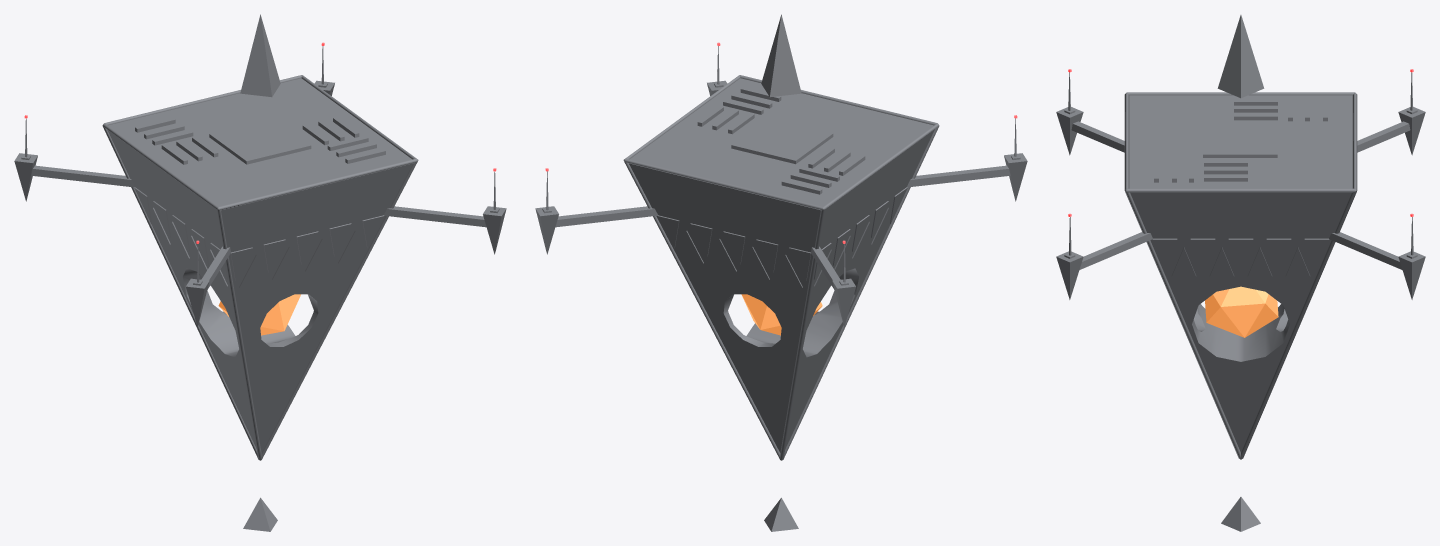
File: station.glb
3 views of the same model, side by side, from view 1: azimuth 30°, elevation 25°; view 2: azimuth 150°, elevation 25°; view 3: azimuth 270°, elevation 25° (orthographic).
Parts seen in each view (by area): view 1: Pyramid_6, Pyramid, Cube, Cylinder, Pyramid_1, Edge_7, Edge_5, Edge_4, Cube_5_3, Cube_7, Platonic_1, Edge_0 (+5 smaller); view 2: Pyramid_6, Pyramid, Cube, Cylinder, Pyramid_1, Edge_6, Edge_4, Edge_5, Cube_6, Cube_4_3, Edge_2, Platonic_1 (+5 smaller); view 3: Pyramid_6, Pyramid, Platonic_1, Cube, Cylinder, Pyramid_1, Edge_6, Edge_7, Edge_3, Cube_4_3, Cube_7, Edge_1 (+9 smaller).
Boxes of the visible parts, x1,y1,x2,y2 form: Pyramid_6: (107,78,412,452); Pyramid: (134,187,384,287); Cube: (209,118,311,164); Cylinder: (183,268,295,357); Pyramid_1: (240,14,280,97); Edge_7: (261,161,417,459); Edge_5: (216,209,261,460); Edge_4: (102,126,259,459); Cube_5_3: (31,165,134,187); Cube_7: (384,206,486,227); Platonic_1: (218,294,300,335); Edge_0: (219,158,417,210); Pyramid_6: (629,78,934,452); Pyramid: (657,187,907,287); Cube: (731,117,833,164); Cylinder: (746,268,858,357); Pyramid_1: (761,14,801,97); Edge_6: (624,161,780,459); Edge_4: (780,209,825,460); Edge_5: (782,126,939,459); Cube_6: (907,165,1010,187); Cube_4_3: (555,206,657,227); Edge_2: (624,158,822,210); Platonic_1: (741,294,822,335); Pyramid_6: (1129,95,1352,451); Pyramid: (1152,238,1329,276); Platonic_1: (1205,286,1278,337); Cube: (1203,123,1277,157); Cylinder: (1192,304,1289,361); Pyramid_1: (1217,15,1264,98); Edge_6: (1240,191,1356,459); Edge_7: (1125,191,1241,459); Edge_3: (1127,188,1354,192); Cube_4_3: (1329,232,1402,269); Cube_7: (1079,232,1152,269); Edge_1: (1127,92,1354,95).
Bounding box in the file's own units: 324 × 493 × 324.
1 material, 1 textured.
